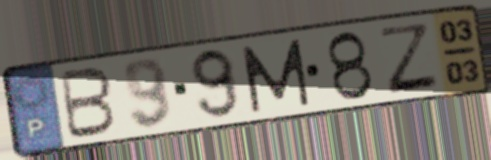8: (325, 29, 376, 102)
9: (187, 47, 242, 123), (120, 56, 175, 132)
B: (58, 65, 119, 142)
M: (238, 36, 314, 116)
Z: (378, 21, 443, 96)
